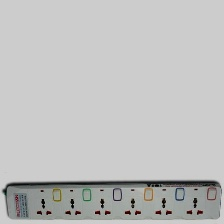three_eye_plug: (0, 179, 222, 221)
